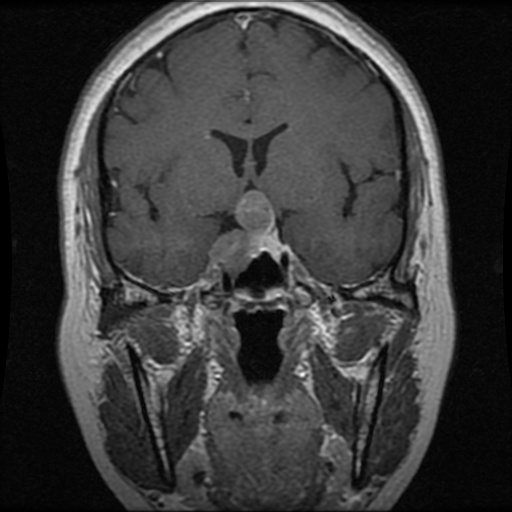pituitary: (211, 190, 282, 275)
